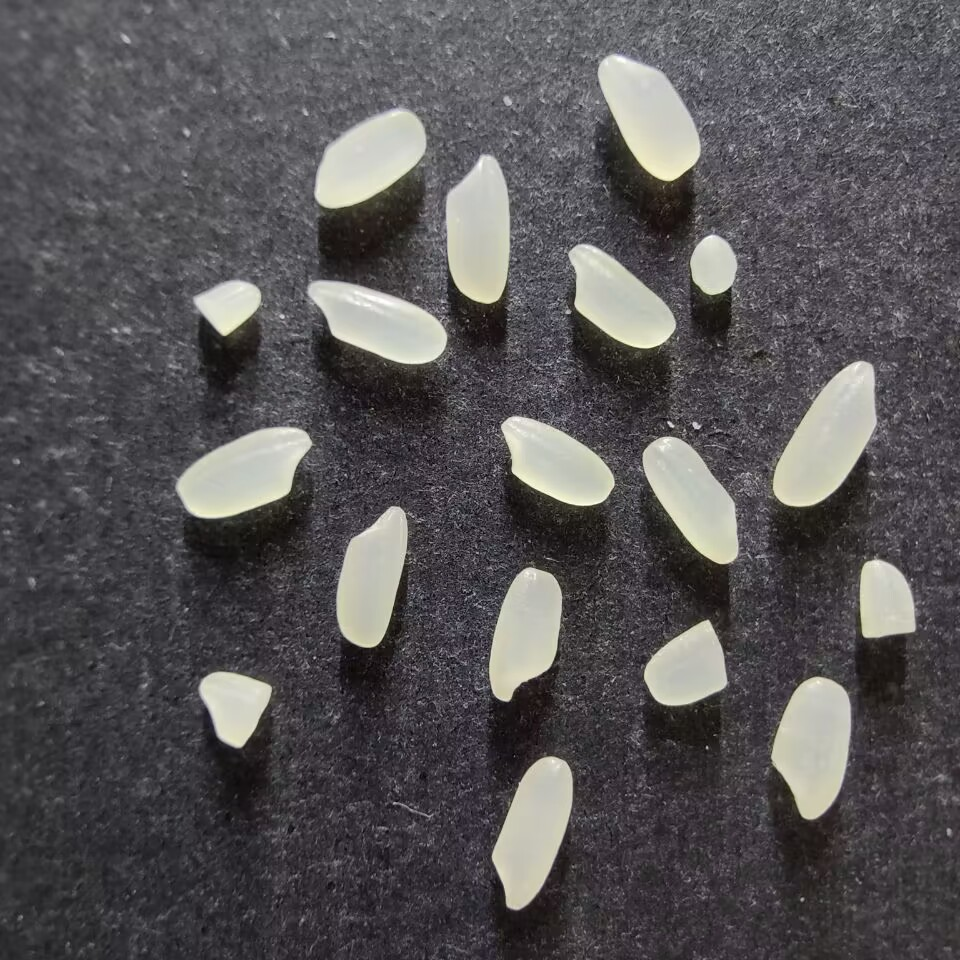broken: (643, 618, 728, 706), (198, 671, 271, 749), (858, 560, 916, 639), (191, 279, 262, 337), (689, 235, 737, 295)
rice: (771, 361, 878, 507), (596, 53, 700, 182), (641, 436, 740, 565), (490, 755, 572, 910), (175, 425, 310, 519), (307, 279, 446, 364), (770, 676, 851, 820), (313, 109, 427, 209), (568, 243, 676, 348), (335, 505, 408, 649), (500, 416, 615, 506), (487, 567, 562, 702), (444, 155, 509, 304)
